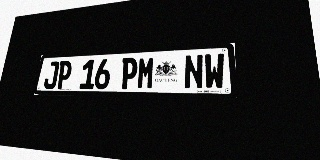1: (79, 59, 97, 89)
6: (94, 59, 112, 89)
J: (43, 61, 60, 89)
M: (136, 56, 155, 89)
N: (184, 54, 203, 89)
P: (120, 57, 138, 89), (56, 60, 73, 89)
W: (204, 53, 225, 89)
